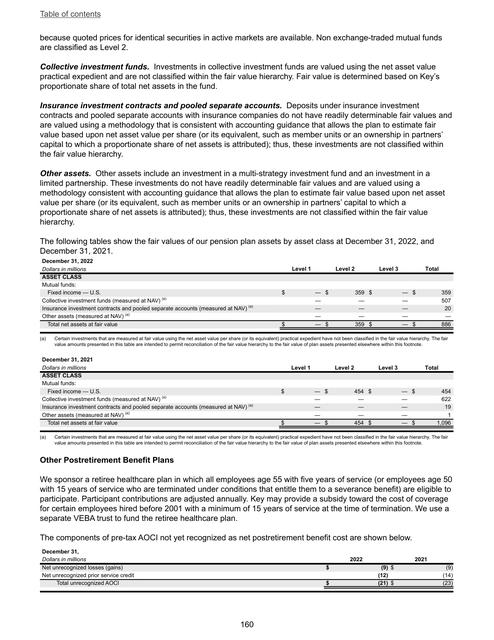box: (39, 355, 457, 434), (39, 263, 457, 337), (38, 547, 457, 593)
